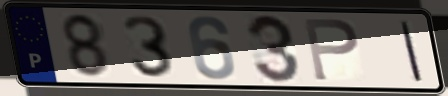3: (243, 12, 303, 86), (122, 14, 177, 80)
6: (185, 14, 237, 82)
8: (59, 11, 115, 80)
I: (397, 19, 426, 84)
P: (300, 16, 362, 83)
